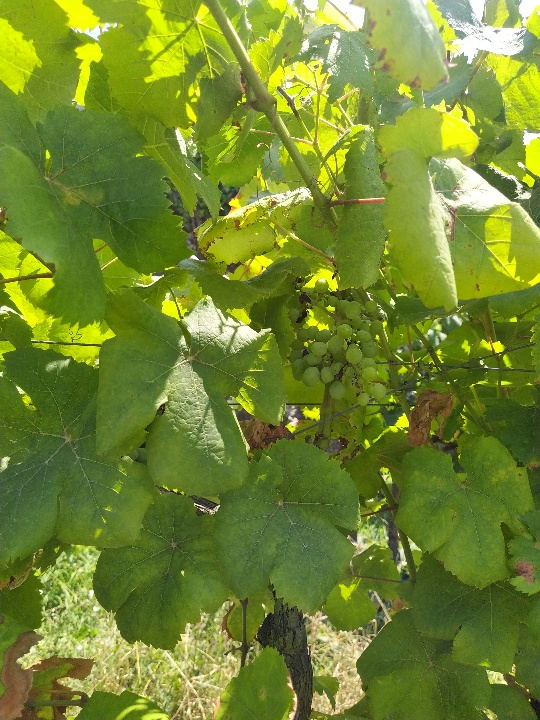grape: (287, 275, 390, 408)
